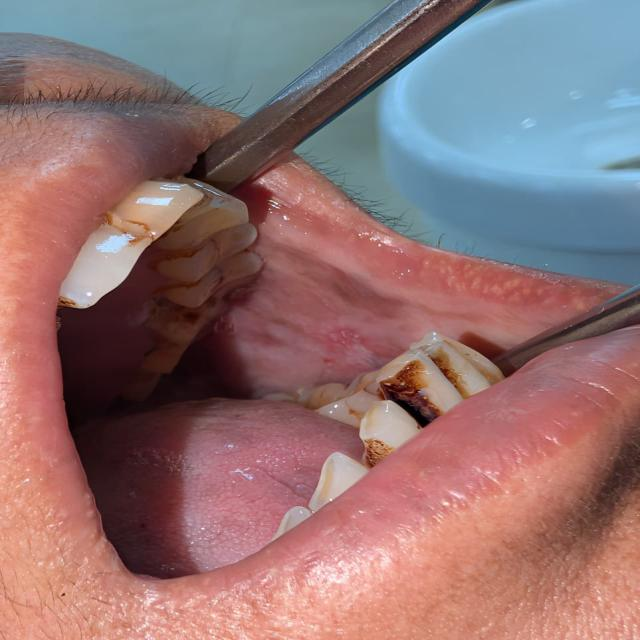leukoplakia-like-detection: (232, 219, 428, 404)
processing_area: (194, 209, 428, 572)
